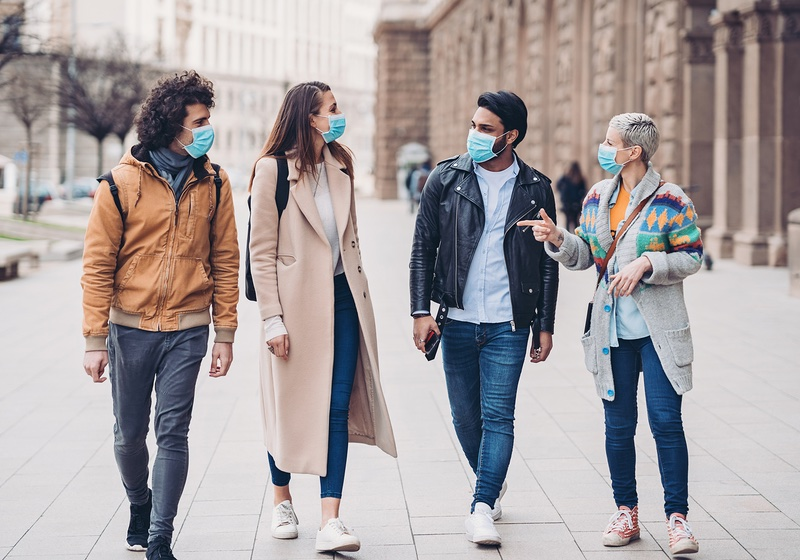Head: (162, 70, 215, 158), (467, 90, 519, 162), (598, 112, 642, 174), (306, 80, 346, 142)
